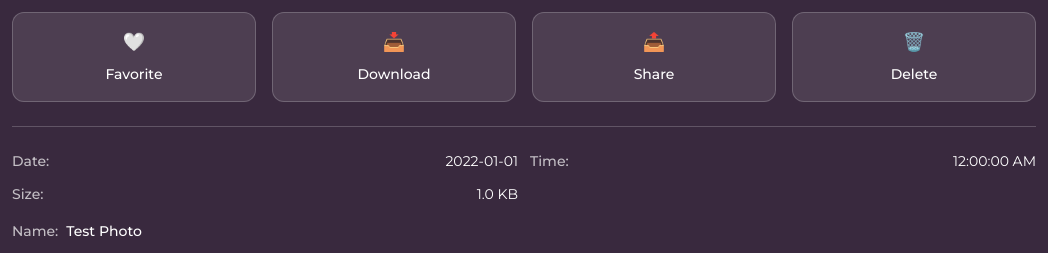
Test: PhotoActions › delete functionality › should show delete confirmation when delete clicked
Click the button "🗑️ Delete": [914, 57] box [792, 12, 1036, 102]
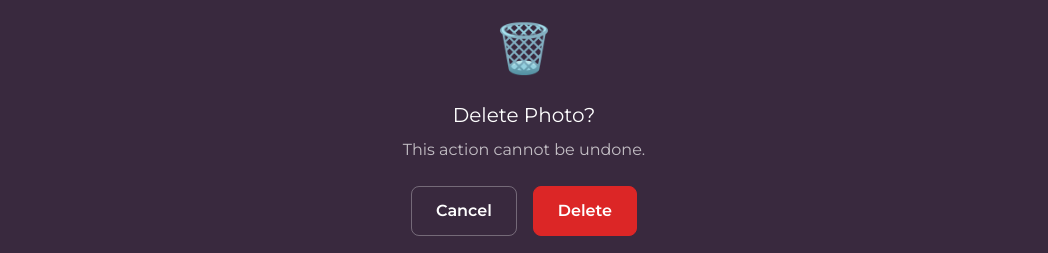
Expected: the heading "Delete Photo?" is shown, [453, 103, 595, 127]
Expected: the text "This action cannot be undone." is shown, [403, 138, 645, 162]
Expected: the button "Cancel" is shown, [411, 186, 517, 236]
